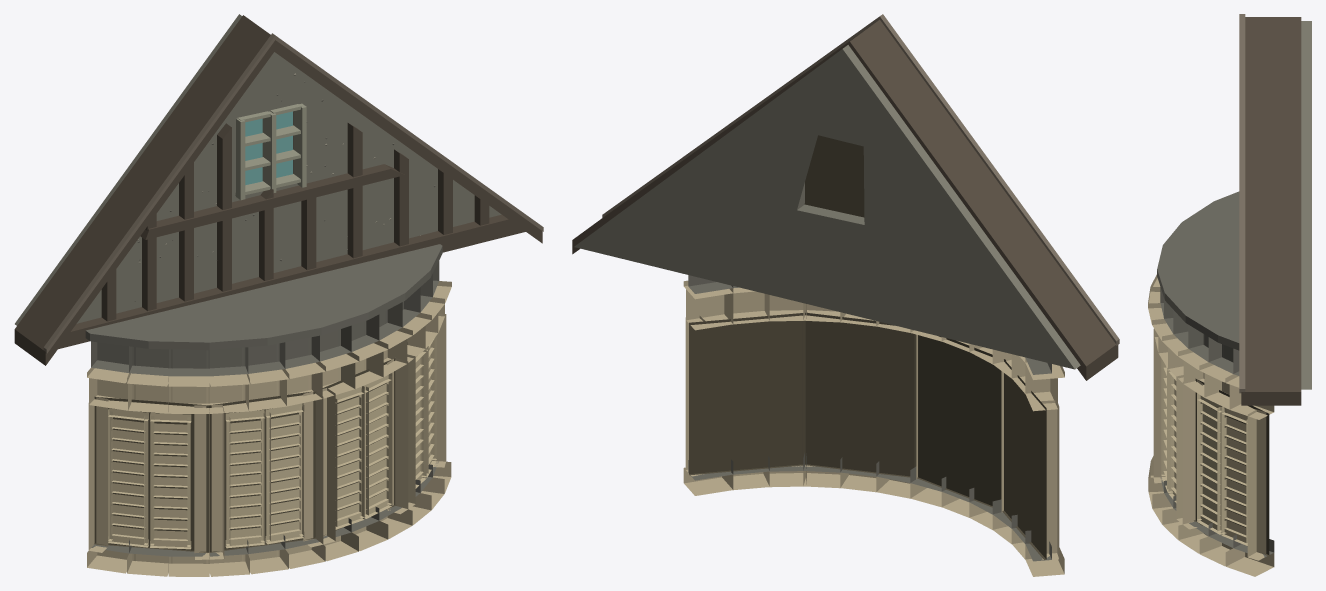
Rendered from jingan-yuyuan-541-no2-gabled-bow-window-lod.glb.
3 renders of one model, left to right at view 1: azimuth 30°, elevation 25°; view 2: azimuth 150°, elevation 25°; view 3: azimuth 270°, elevation 25°, orthographic. The views are drawn at different scales.
Visible parts, largest first — view 1: 愚园路541弄2号木构山墙与弧窗百叶; view 2: 愚园路541弄2号木构山墙与弧窗百叶; view 3: 愚园路541弄2号木构山墙与弧窗百叶.
Part boxes in pixels (x1,y1,x2,y2): 愚园路541弄2号木构山墙与弧窗百叶: (14, 14, 543, 576); 愚园路541弄2号木构山墙与弧窗百叶: (572, 14, 1119, 576); 愚园路541弄2号木构山墙与弧窗百叶: (1148, 14, 1311, 576).
Bounding box in the file's own units: 4.15 × 3.94 × 1.23.
